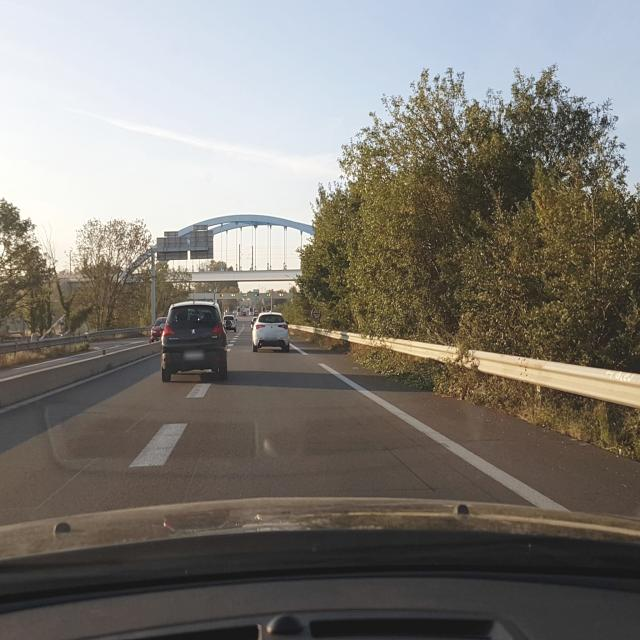car: (160, 299, 228, 383), (251, 311, 290, 352), (150, 317, 168, 343), (223, 315, 237, 332)
